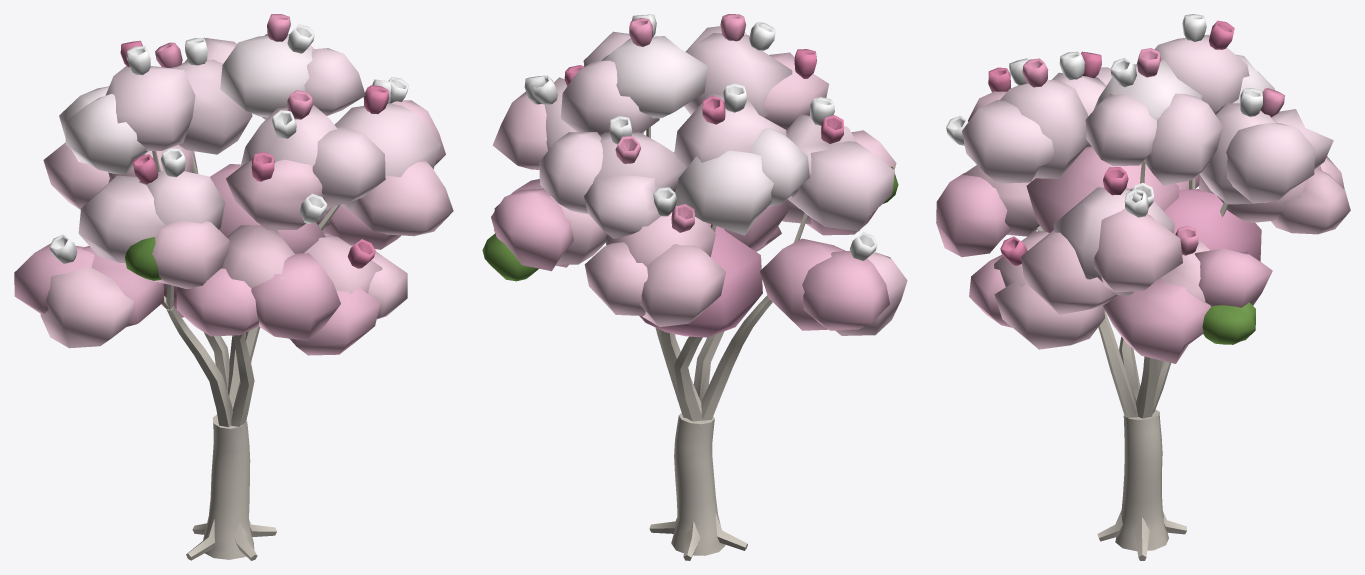
File: magnolia.glb
3 renders of one model, left to right at view 1: azimuth 30°, elevation 25°; view 2: azimuth 150°, elevation 25°; view 3: azimuth 270°, elevation 25°, orthographic.
Visible parts, largest first — view 1: magnolia; view 2: magnolia; view 3: magnolia.
Boxes of the visible parts, left/top/right/bottom form: magnolia: left=14, top=14, right=453, bottom=560; magnolia: left=482, top=14, right=907, bottom=560; magnolia: left=936, top=14, right=1350, bottom=560.
Size of the model in its own units: 4.2 by 5.25 by 3.83.
